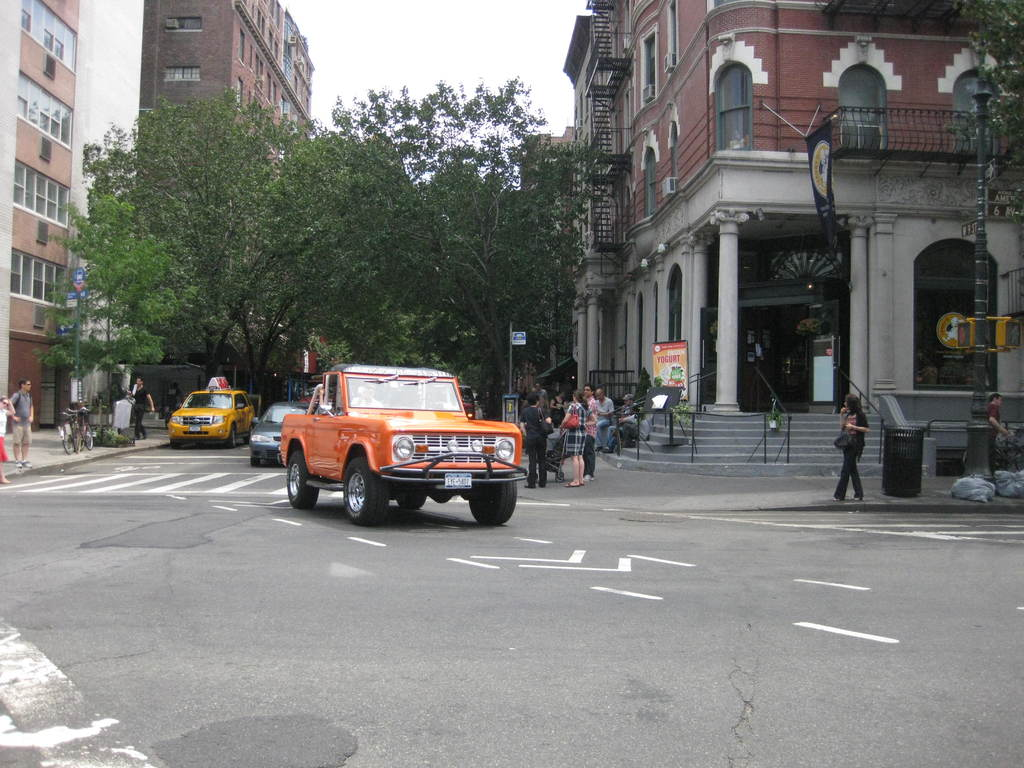Car: (277, 358, 535, 524), (162, 378, 251, 446), (253, 394, 314, 462)
